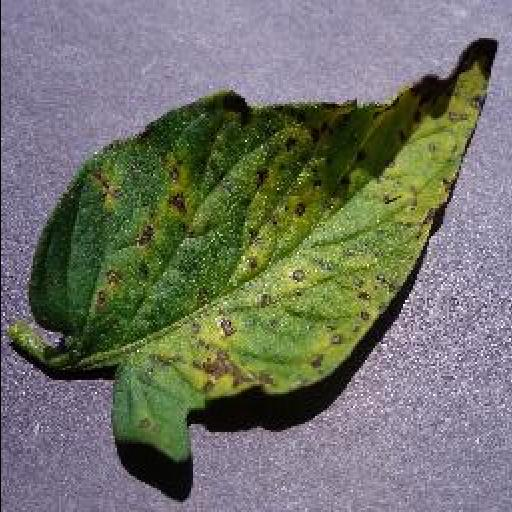disease_tomato: (34, 35, 496, 463)
